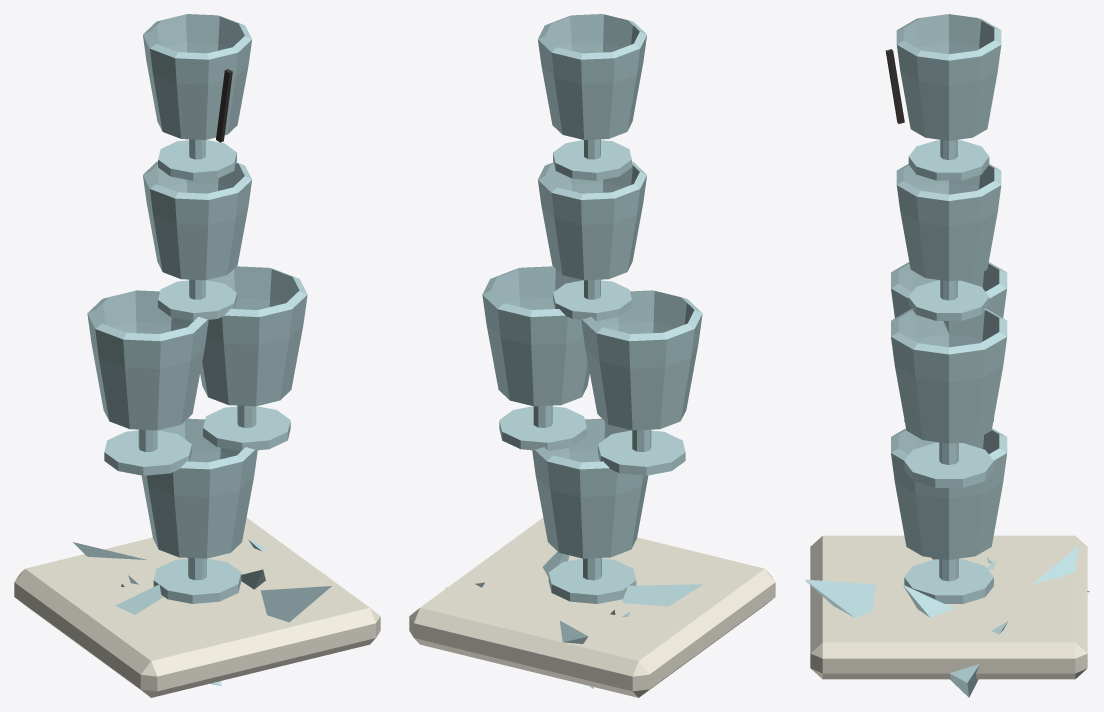
The model's file is sm_cargo_content_glass_tower.glb.
3 views of the same model, side by side, from view 1: azimuth 30°, elevation 25°; view 2: azimuth 150°, elevation 25°; view 3: azimuth 270°, elevation 25° (orthographic).
Visible parts, largest first — view 1: Intact, Filler, Ruined, Damage; view 2: Intact, Filler, Ruined; view 3: Intact, Filler, Ruined, Damage.
Boxes of the visible parts, x1,y1,x2,y2 form: Intact: [87, 14, 307, 603]; Filler: [14, 518, 380, 697]; Ruined: [73, 539, 331, 685]; Damage: [216, 69, 232, 142]; Intact: [482, 14, 702, 603]; Filler: [409, 518, 775, 697]; Ruined: [446, 551, 702, 688]; Intact: [891, 14, 1007, 603]; Filler: [810, 535, 1087, 679]; Ruined: [805, 546, 1089, 697]; Damage: [885, 49, 904, 123].
Bounding box in the file's own units: 0.3652 × 0.8363 × 0.3503.
